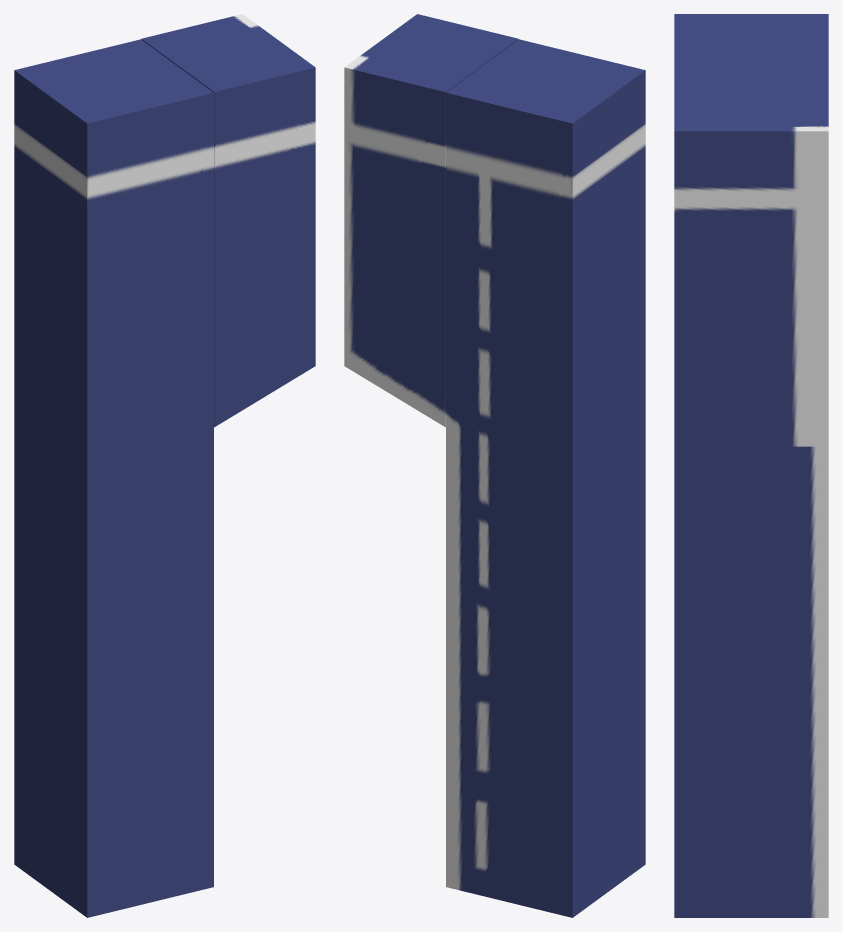
File: buil_9.fbx
The picture shows the model from 3 angles, left to right: view 1: azimuth 30°, elevation 25°; view 2: azimuth 150°, elevation 25°; view 3: azimuth 270°, elevation 25°; orthographic projection. The views are drawn at different scales.
Parts seen in each view (by area): view 1: node_id5; view 2: node_id5; view 3: node_id5.
Boxes of the visible parts, box(x1,y1,x2,y2) form: node_id5: box(14, 14, 315, 917); node_id5: box(344, 14, 645, 917); node_id5: box(674, 14, 828, 917).
Bounding box in the file's own units: 0.1539 × 0.512 × 0.0853.
1 material, 1 textured.
